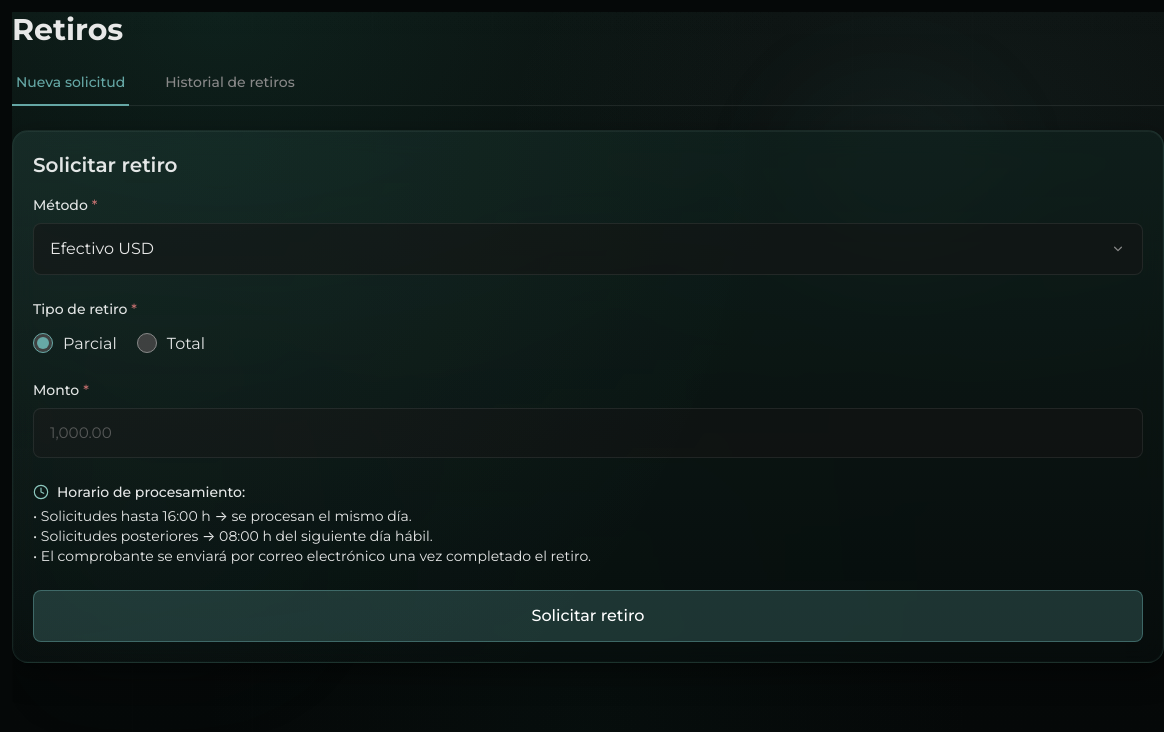
Test: RequestsPage › shows empty state when no withdrawals in history
Click the button "Historial de retiros" at (230, 89), box [161,72,299,106]
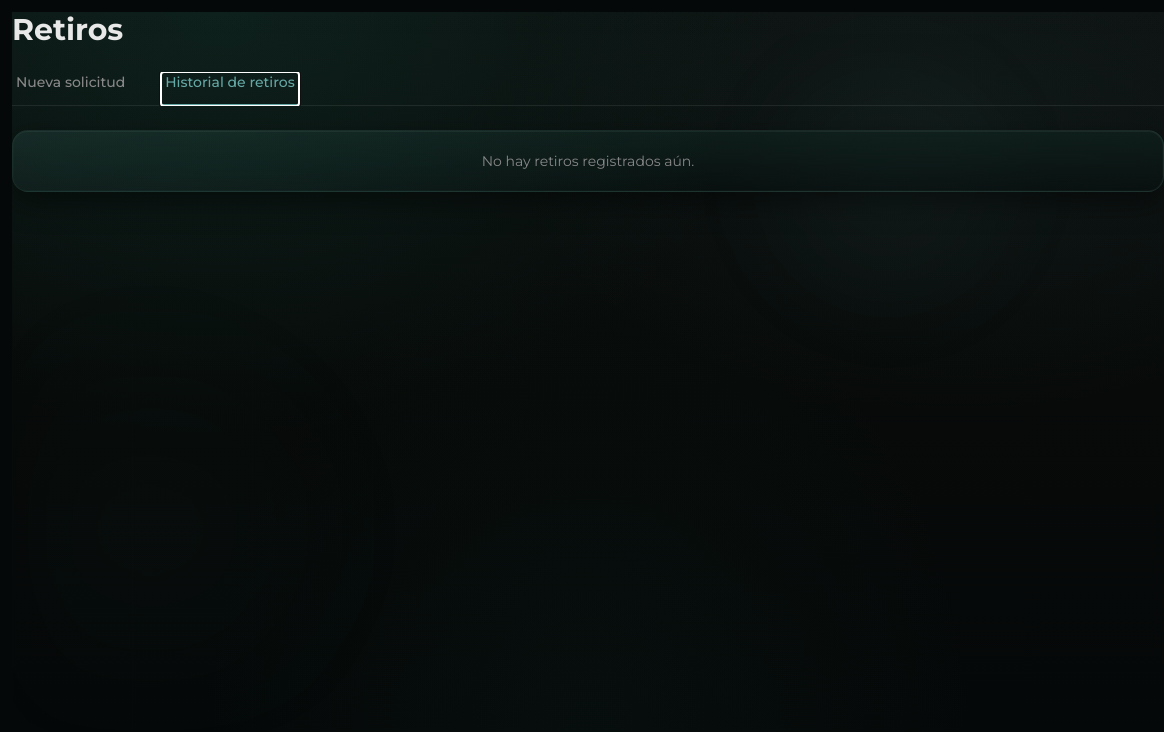
Now the text "No hay retiros registrados aún." is shown, box [12,130,1163,192]
